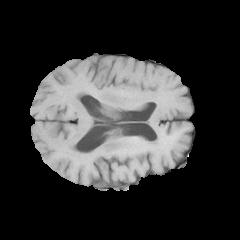glioma: (78, 135, 165, 163)
